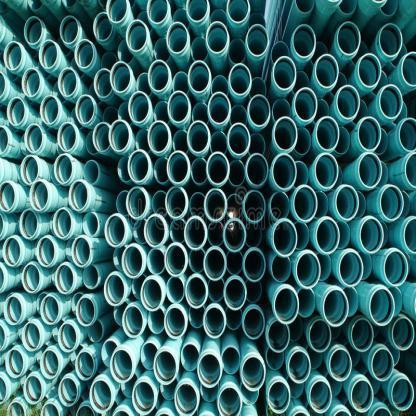pipe: (369, 288, 395, 326), (323, 289, 349, 327), (272, 220, 298, 257), (359, 216, 384, 254), (293, 185, 318, 222), (274, 288, 299, 324), (272, 154, 296, 191), (380, 184, 404, 221), (296, 252, 320, 289), (197, 353, 222, 388), (358, 152, 382, 188), (314, 152, 338, 188), (336, 184, 360, 220), (316, 218, 340, 254), (384, 250, 408, 286), (339, 251, 363, 287), (242, 356, 266, 392), (132, 380, 156, 416), (380, 84, 404, 119), (336, 85, 360, 120), (294, 87, 318, 122), (316, 115, 340, 150), (358, 116, 382, 151), (336, 21, 360, 56), (315, 53, 339, 88), (274, 118, 298, 152), (206, 152, 230, 186), (350, 379, 374, 413), (378, 23, 402, 57), (174, 382, 198, 416), (292, 24, 316, 58), (358, 54, 382, 88), (223, 219, 247, 252), (154, 350, 176, 386), (273, 57, 297, 90), (186, 120, 209, 154), (204, 188, 227, 222), (243, 190, 266, 224), (392, 317, 415, 351), (351, 318, 374, 352), (329, 348, 352, 382), (288, 350, 311, 384), (246, 24, 269, 58), (165, 187, 188, 220), (147, 59, 170, 92), (167, 90, 189, 124), (104, 214, 126, 248), (184, 216, 206, 250), (204, 247, 226, 281), (140, 278, 162, 312), (309, 319, 331, 353), (126, 19, 148, 53), (372, 348, 394, 382), (110, 349, 132, 383), (90, 380, 112, 414), (310, 380, 332, 414), (268, 380, 290, 414), (224, 278, 247, 310), (391, 378, 414, 410), (229, 63, 251, 96), (228, 122, 250, 155), (246, 154, 268, 187), (185, 276, 207, 309), (164, 307, 186, 340), (188, 61, 210, 94), (109, 61, 131, 94), (128, 92, 150, 124), (208, 92, 230, 124), (248, 95, 270, 127), (108, 120, 130, 152), (121, 246, 143, 278), (244, 250, 266, 282), (206, 22, 228, 54), (166, 22, 188, 54), (128, 151, 150, 182), (144, 216, 166, 247), (164, 245, 186, 276), (203, 307, 225, 338), (268, 321, 290, 352), (167, 152, 188, 184), (104, 274, 125, 306), (122, 306, 143, 338), (217, 387, 241, 415), (148, 121, 169, 152), (29, 180, 49, 212), (68, 180, 88, 211), (126, 187, 146, 218), (52, 208, 72, 239), (244, 308, 264, 339), (398, 118, 416, 152), (93, 12, 113, 42), (58, 377, 78, 407), (74, 39, 94, 69), (38, 40, 58, 70), (54, 154, 73, 185), (75, 351, 95, 380), (76, 94, 94, 126), (226, 0, 250, 24), (37, 236, 55, 268), (72, 236, 90, 268), (40, 95, 59, 125), (7, 96, 26, 126), (20, 154, 39, 184), (19, 209, 38, 239), (23, 16, 42, 46), (40, 350, 59, 380), (94, 68, 112, 99), (24, 124, 43, 153), (40, 296, 59, 325), (76, 297, 95, 326), (5, 349, 24, 378), (58, 122, 76, 152), (92, 123, 110, 153), (3, 236, 21, 266), (272, 255, 292, 282), (22, 264, 40, 294), (55, 264, 73, 294), (298, 288, 316, 318), (22, 322, 40, 352), (4, 40, 22, 70), (271, 192, 290, 220), (23, 376, 42, 404), (186, 0, 209, 23), (147, 0, 169, 24), (22, 68, 40, 97), (58, 68, 76, 97), (60, 15, 78, 44), (4, 296, 22, 325), (58, 323, 76, 352), (106, 0, 128, 23), (166, 276, 184, 304), (222, 346, 240, 374), (401, 51, 415, 87), (0, 182, 16, 213), (181, 343, 199, 370), (316, 252, 332, 282), (343, 288, 359, 318), (141, 342, 158, 370), (292, 70, 310, 96), (147, 249, 165, 275), (191, 36, 209, 62), (228, 38, 246, 64), (310, 40, 328, 66), (334, 127, 350, 156), (148, 308, 165, 335), (404, 216, 416, 254), (330, 72, 348, 97), (295, 127, 311, 155), (102, 340, 118, 368), (312, 98, 329, 124), (228, 160, 245, 186), (314, 191, 329, 220), (404, 152, 416, 188), (191, 158, 207, 185), (294, 223, 310, 250), (121, 373, 138, 398), (160, 378, 179, 400), (240, 383, 259, 405), (271, 42, 290, 64), (352, 100, 368, 126), (154, 158, 170, 184), (172, 72, 190, 95), (273, 99, 291, 122), (136, 73, 153, 97), (226, 194, 243, 218), (154, 38, 171, 62), (118, 40, 135, 64), (154, 100, 170, 125), (190, 192, 206, 217), (248, 77, 266, 99), (188, 306, 206, 328), (266, 348, 284, 370), (294, 161, 308, 189), (336, 221, 350, 249), (210, 131, 227, 154), (245, 224, 262, 247), (245, 280, 262, 303), (173, 129, 189, 153), (249, 132, 265, 156), (83, 160, 99, 184), (82, 212, 98, 236), (208, 222, 224, 246), (188, 249, 204, 273), (82, 264, 98, 288), (306, 346, 322, 370), (172, 8, 190, 29), (359, 251, 372, 280), (118, 102, 133, 127), (152, 191, 167, 216), (132, 274, 147, 299), (226, 252, 243, 274), (170, 220, 186, 243), (208, 279, 224, 302), (226, 307, 242, 330), (374, 128, 388, 154), (117, 156, 131, 182), (114, 300, 128, 326), (209, 9, 228, 28), (211, 76, 229, 96), (133, 220, 148, 244), (192, 103, 209, 124), (87, 320, 103, 342), (230, 104, 246, 125), (136, 129, 150, 153), (200, 384, 218, 402), (380, 0, 399, 17), (102, 106, 118, 126), (338, 0, 358, 16), (116, 190, 128, 216), (100, 52, 118, 69), (86, 130, 98, 155), (295, 0, 315, 14), (71, 292, 83, 315), (7, 401, 26, 415), (0, 126, 9, 154), (40, 403, 60, 415), (0, 72, 6, 100)
